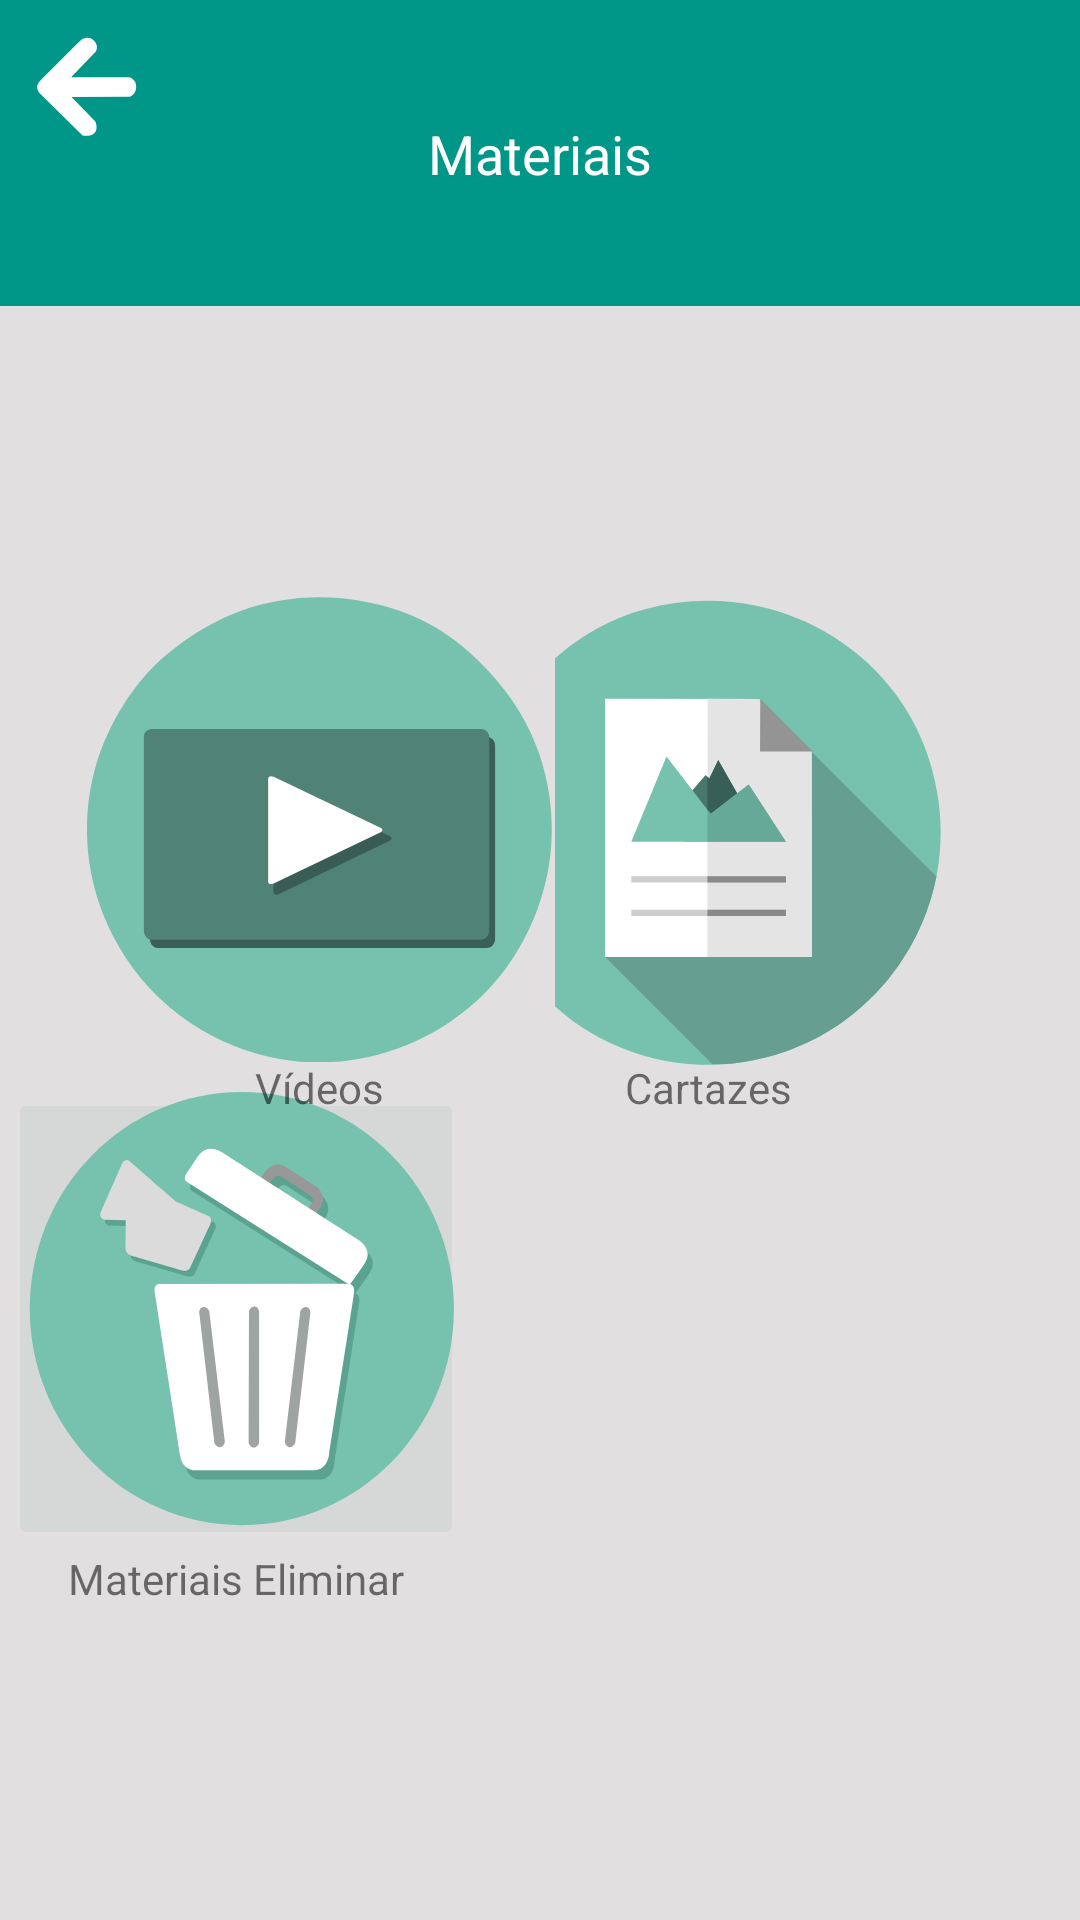

Locate icon controls on the screen. Image size 1080w x 1920h, boxes as rect(x1, y1, x2, y2).
seta: rect(37, 37, 137, 136)
